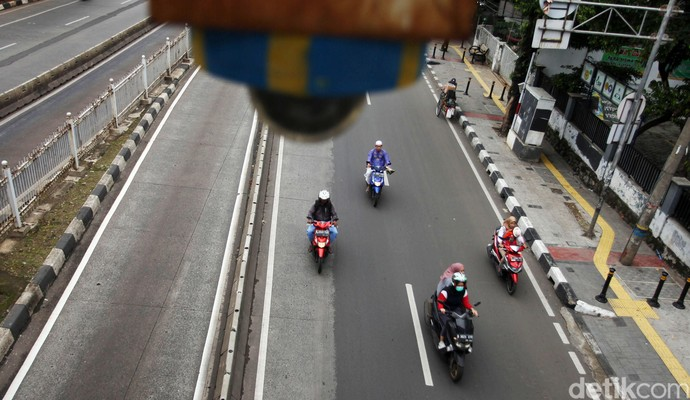motorbike: (423, 263, 472, 384), (486, 214, 526, 300), (307, 190, 339, 273), (364, 140, 394, 209)
